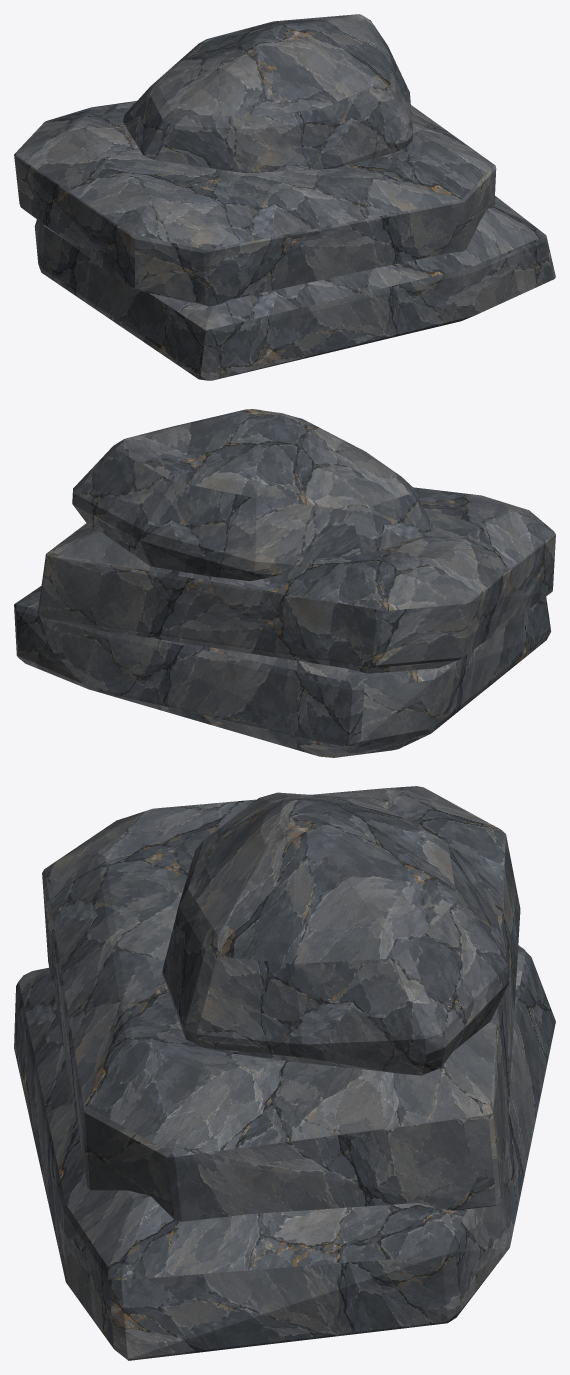
Rendered from Cave_R05_LayeredBoulder.fbx.
3 views of the same model, one above another, from view 1: azimuth 30°, elevation 25°; view 2: azimuth 150°, elevation 25°; view 3: azimuth 270°, elevation 25° (orthographic). The views are drawn at different scales.
Parts seen in each view (by area): view 1: Cave_R05_LayeredBoulder_LOD0; view 2: Cave_R05_LayeredBoulder_LOD0; view 3: Cave_R05_LayeredBoulder_LOD0.
Part boxes in pixels (bbox=[...]): Cave_R05_LayeredBoulder_LOD0: bbox=[14, 14, 555, 380]; Cave_R05_LayeredBoulder_LOD0: bbox=[14, 409, 555, 757]; Cave_R05_LayeredBoulder_LOD0: bbox=[14, 786, 555, 1360].
Size of what is drawn, in the model's own units: 3.41 by 1.87 by 2.37.
1 material, 1 textured.
